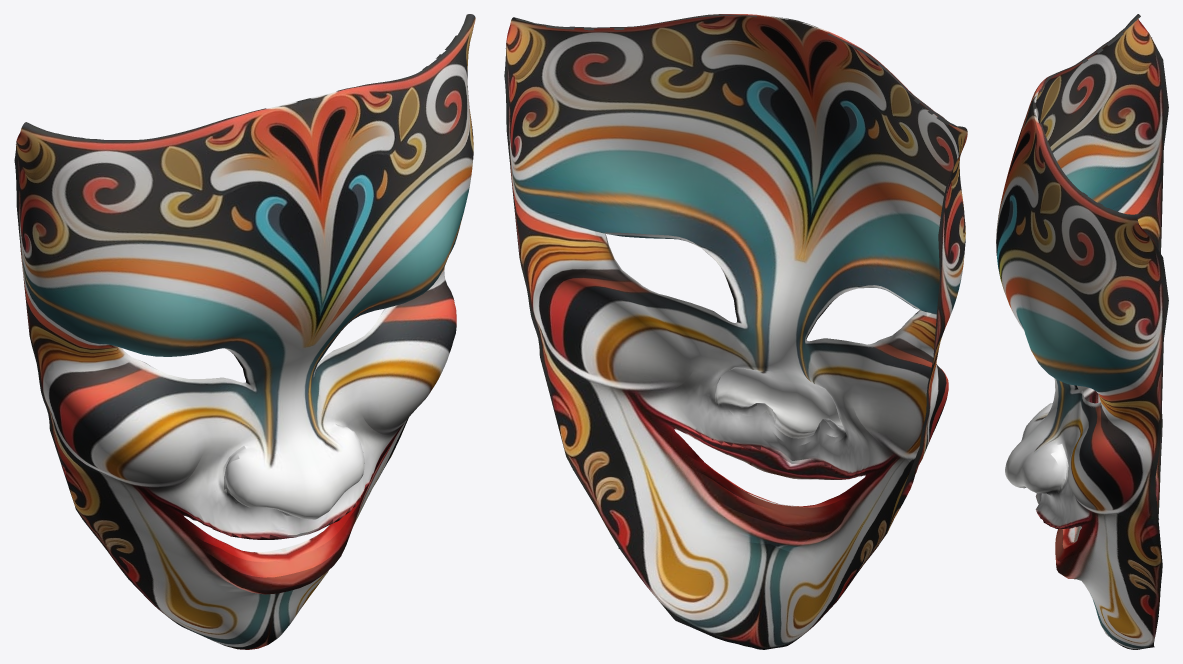
Rendered from mascaraEPI.glb.
The picture shows the model from 3 angles, left to right: view 1: azimuth 30°, elevation 25°; view 2: azimuth 150°, elevation 25°; view 3: azimuth 270°, elevation 25°; orthographic projection. The views are drawn at different scales.
Visible parts, largest first — view 1: Retopo_Dolly.004; view 2: Retopo_Dolly.004; view 3: Retopo_Dolly.004.
Boxes of the visible parts, <box> form: Retopo_Dolly.004: <box>14,14,475,649</box>; Retopo_Dolly.004: <box>504,14,967,649</box>; Retopo_Dolly.004: <box>996,14,1168,649</box>.
Size of the model in its own units: 1.12 by 1.37 by 0.3991.
Materials: 1 (1 with a texture image).
